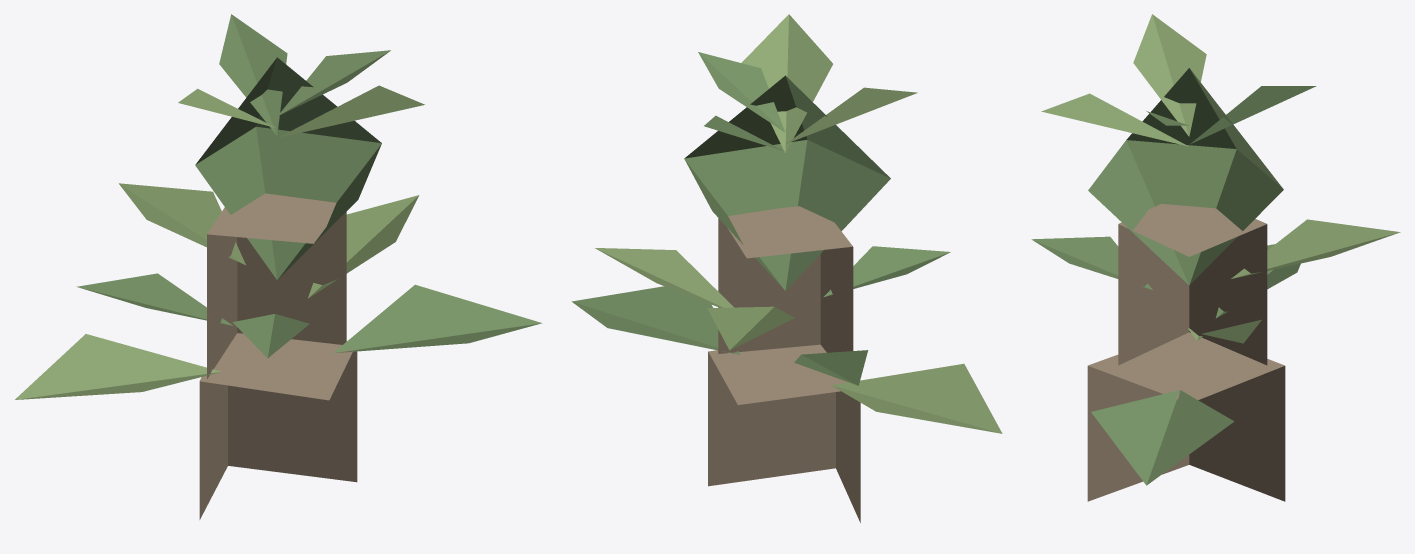
The model's file is cao.yangmao@seedling__summer.glb.
The picture shows the model from 3 angles, left to right: view 1: azimuth 30°, elevation 25°; view 2: azimuth 150°, elevation 25°; view 3: azimuth 270°, elevation 25°; orthographic projection. The views are drawn at different scales.
Visible parts, largest first — view 1: cao.yangmao@seedling__summer; view 2: cao.yangmao@seedling__summer; view 3: cao.yangmao@seedling__summer.
Part boxes in pixels (left/top/right/bottom): cao.yangmao@seedling__summer: left=15, top=14, right=542, bottom=519; cao.yangmao@seedling__summer: left=571, top=14, right=1002, bottom=522; cao.yangmao@seedling__summer: left=1031, top=14, right=1400, bottom=501.
Size of the model in its own units: 0.0907 by 0.079 by 0.061.
